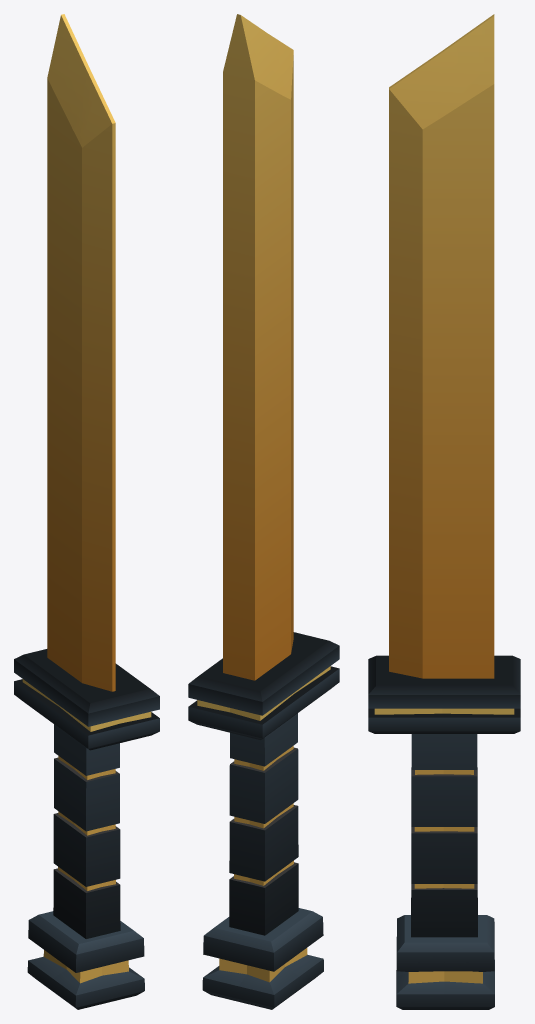
File: Sword_Yellow.fbx
3 renders of one model, left to right at view 1: azimuth 30°, elevation 25°; view 2: azimuth 150°, elevation 25°; view 3: azimuth 270°, elevation 25°, orthographic. The views are drawn at different scales.
Parts seen in each view (by area): view 1: Merged_PM3D_Cube3D2; view 2: Merged_PM3D_Cube3D2; view 3: Merged_PM3D_Cube3D2.
Boxes of the visible parts, bbox=[...] form: Merged_PM3D_Cube3D2: bbox=[14, 14, 159, 1009]; Merged_PM3D_Cube3D2: bbox=[188, 14, 339, 1009]; Merged_PM3D_Cube3D2: bbox=[368, 14, 520, 1009].
Size of the model in its own units: 0.0994 by 1.27 by 0.1789.
